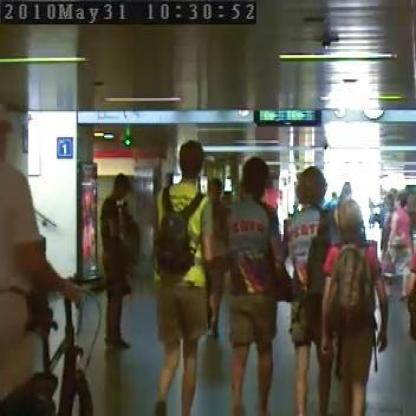other: (160, 177, 214, 276)
